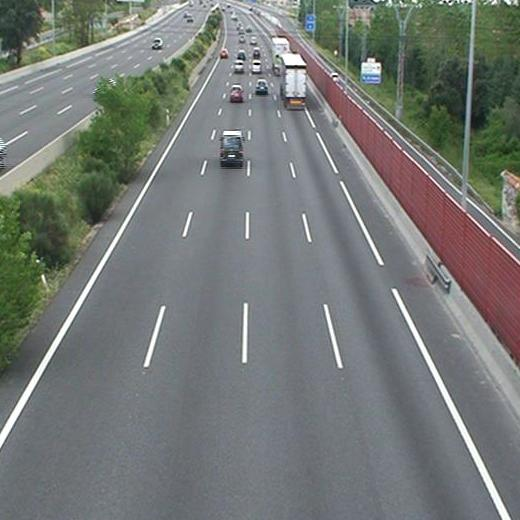car: (230, 85, 244, 102), (256, 79, 269, 93), (233, 61, 244, 72), (251, 61, 261, 73), (252, 49, 261, 57), (219, 49, 228, 57), (237, 51, 245, 59)
truck: (280, 55, 306, 108), (271, 37, 288, 74)
van: (220, 131, 243, 165)
